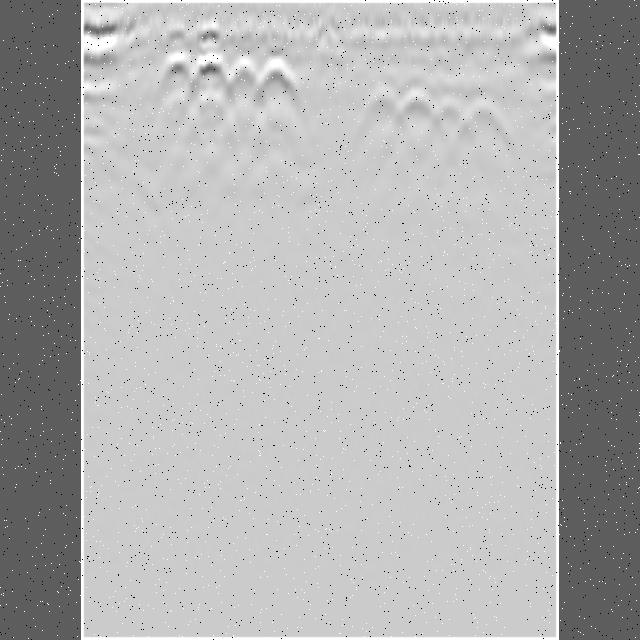hyperbola: (387, 86, 443, 126), (250, 54, 296, 102), (361, 81, 407, 121), (426, 91, 474, 127), (224, 52, 266, 92), (158, 46, 198, 86), (462, 98, 512, 130), (190, 52, 228, 92)
